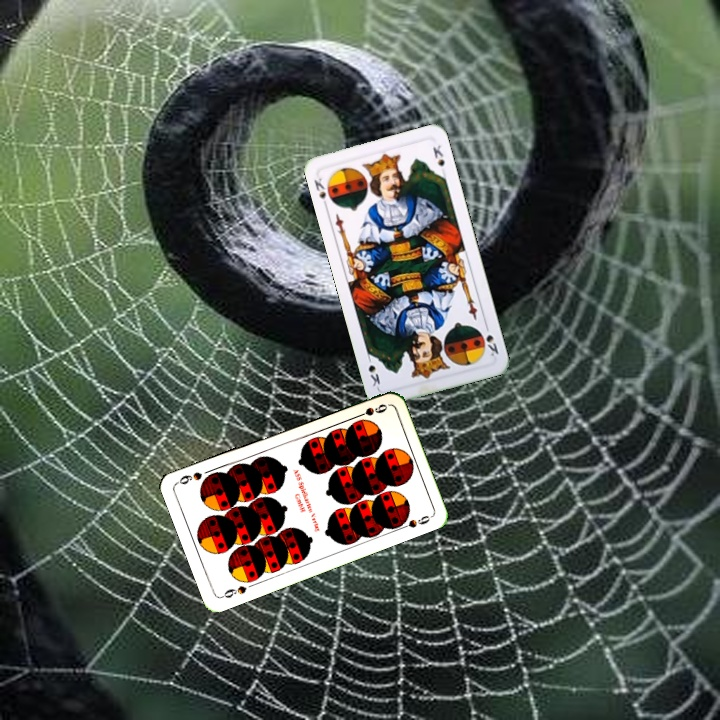S9: (350, 400, 390, 421), (217, 581, 249, 601)
SK: (310, 173, 331, 211), (481, 320, 501, 359)
